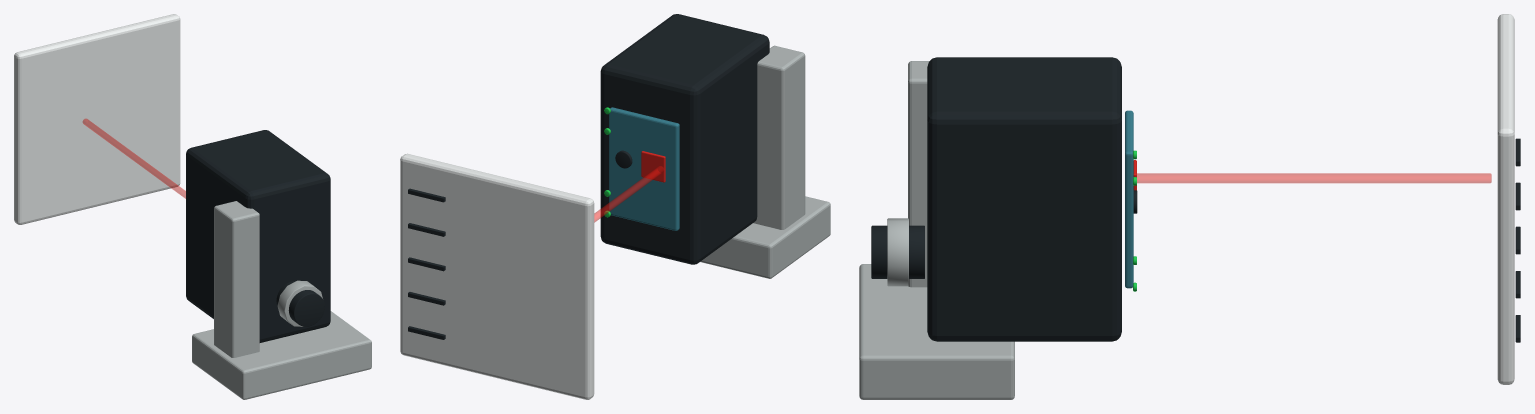
The model's file is laser_distance_sensor.glb.
3 renders of one model, left to right at view 1: azimuth 30°, elevation 25°; view 2: azimuth 150°, elevation 25°; view 3: azimuth 270°, elevation 25°, orthographic. The views are drawn at different scales.
Parts seen in each view (by area): view 1: TARGET_plate, LASER_body, MOUNT_foot, MOUNT_bracket, M12_body, LASER_beam, M12_nut; view 2: TARGET_plate, LASER_body, MOUNT_bracket, OPTICS_bezel, MOUNT_foot, LASER_beam, LASER_window; view 3: LASER_body, MOUNT_foot, TARGET_plate, LASER_beam, MOUNT_bracket, M12_body, OPTICS_bezel, M12_nut.
Boxes of the visible parts, x1=… form: TARGET_plate: x1=14, y1=14, x2=180, y2=224; LASER_body: x1=186, y1=130, x2=330, y2=342; MOUNT_foot: x1=192, y1=311, x2=371, y2=399; MOUNT_bracket: x1=214, y1=201, x2=259, y2=357; M12_body: x1=276, y1=281, x2=324, y2=326; LASER_beam: x1=82, y1=118, x2=185, y2=198; M12_nut: x1=277, y1=280, x2=322, y2=326; TARGET_plate: x1=400, y1=153, x2=594, y2=399; LASER_body: x1=600, y1=14, x2=769, y2=264; MOUNT_bracket: x1=753, y1=45, x2=805, y2=229; OPTICS_bezel: x1=609, y1=107, x2=679, y2=230; MOUNT_foot: x1=700, y1=196, x2=830, y2=278; LASER_beam: x1=594, y1=166, x2=663, y2=222; LASER_window: x1=641, y1=151, x2=665, y2=182; LASER_body: x1=927, y1=57, x2=1121, y2=341; MOUNT_foot: x1=859, y1=264, x2=1014, y2=399; TARGET_plate: x1=1497, y1=14, x2=1514, y2=384; LASER_beam: x1=1137, y1=173, x2=1491, y2=183; MOUNT_bracket: x1=908, y1=61, x2=929, y2=287; M12_body: x1=871, y1=225, x2=924, y2=278; OPTICS_bezel: x1=1125, y1=110, x2=1133, y2=288; M12_nut: x1=887, y1=218, x2=908, y2=286.
Size of the model in its own units: 0.58 by 0.66 by 1.36.
